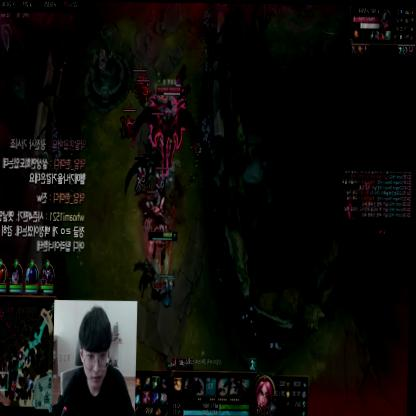streamer: (54, 306, 139, 416)
